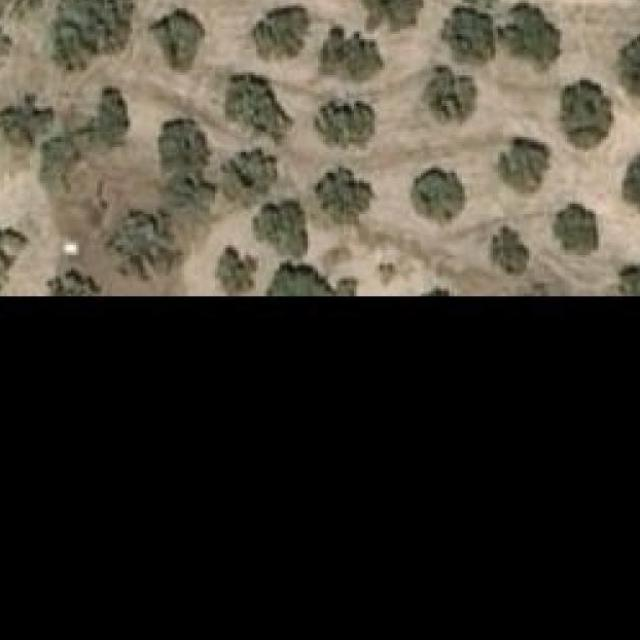Tree: (50, 0, 136, 75), (102, 209, 177, 279), (226, 73, 296, 145), (496, 3, 561, 60), (563, 80, 614, 150), (153, 6, 205, 73), (421, 65, 480, 124), (251, 3, 311, 60), (321, 29, 386, 80), (316, 165, 372, 224), (498, 137, 553, 196), (264, 260, 357, 294), (411, 166, 467, 222), (441, 6, 496, 63), (158, 119, 213, 174), (313, 101, 374, 150), (254, 199, 309, 253), (94, 82, 130, 152), (0, 95, 50, 145), (225, 149, 275, 199), (213, 245, 259, 294), (0, 219, 30, 294), (490, 224, 529, 276), (554, 204, 598, 250), (358, 0, 423, 31), (613, 34, 640, 101), (48, 266, 100, 296), (621, 150, 640, 215), (616, 264, 640, 294)
